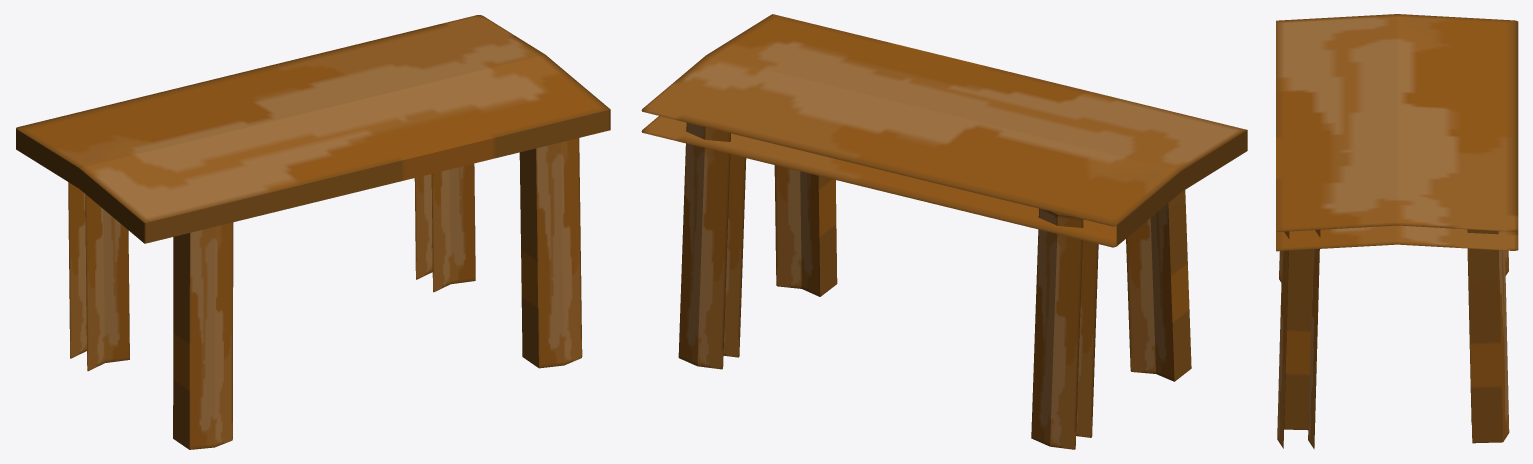
The model's file is Table_Model_002.fbx.
The picture shows the model from 3 angles, left to right: view 1: azimuth 30°, elevation 25°; view 2: azimuth 150°, elevation 25°; view 3: azimuth 270°, elevation 25°; orthographic projection. The views are drawn at different scales.
Parts seen in each view (by area): view 1: Plane.001, Plane.009, Plane.010, Plane.008, Plane.006; view 2: Plane.001, Plane.006, Plane.008, Plane.010, Plane.009; view 3: Plane.001, Plane.006, Plane.009.
Part boxes in pixels (x1,y1,x2,y2): Plane.001: (16,15,610,243); Plane.009: (519,138,582,368); Plane.010: (173,222,233,449); Plane.008: (68,182,129,371); Plane.006: (414,163,475,292); Plane.001: (641,14,1247,247); Plane.006: (678,122,746,369); Plane.008: (1031,208,1098,449); Plane.010: (1126,190,1191,381); Plane.009: (774,165,837,296); Plane.001: (1276,14,1518,251); Plane.006: (1467,229,1509,443); Plane.009: (1277,229,1320,449).
Size of the model in its own units: 144 by 74.56 by 69.69.
5 materials, 5 textured.
